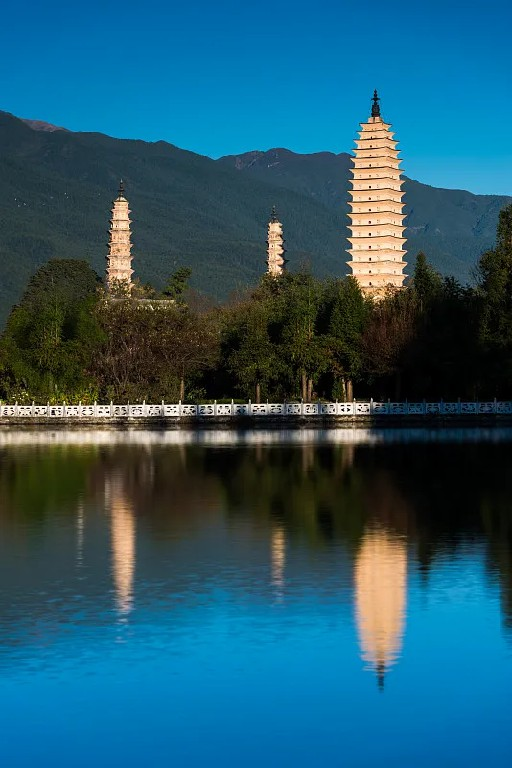ThreePagoda: (346, 88, 407, 300)
